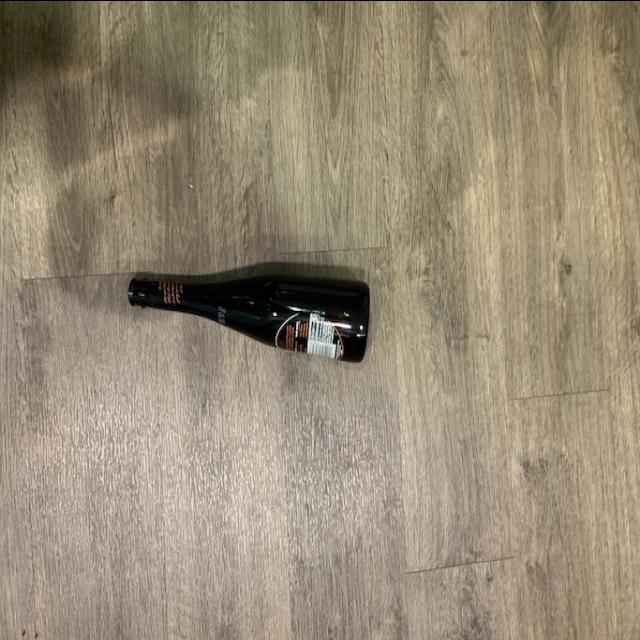Glass Bottle: (120, 262, 380, 368)
